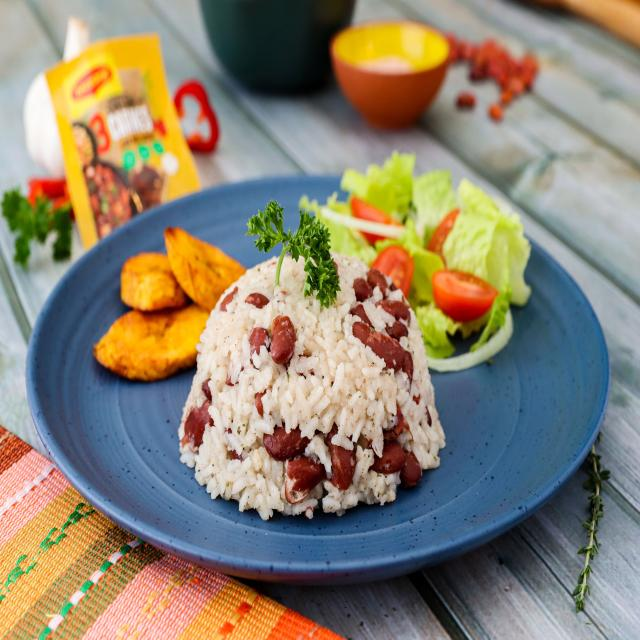arroz: (186, 255, 440, 512)
platano: (103, 213, 231, 373)
